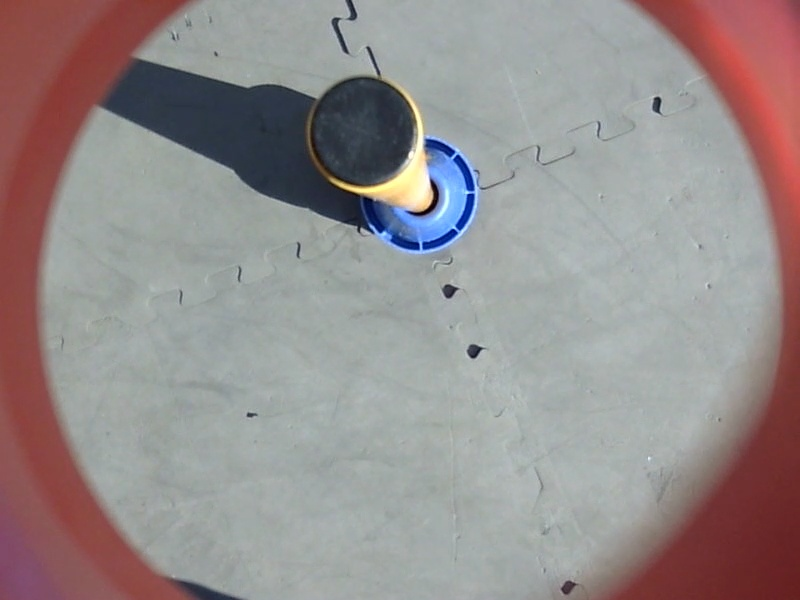tip: (299, 69, 430, 197)
